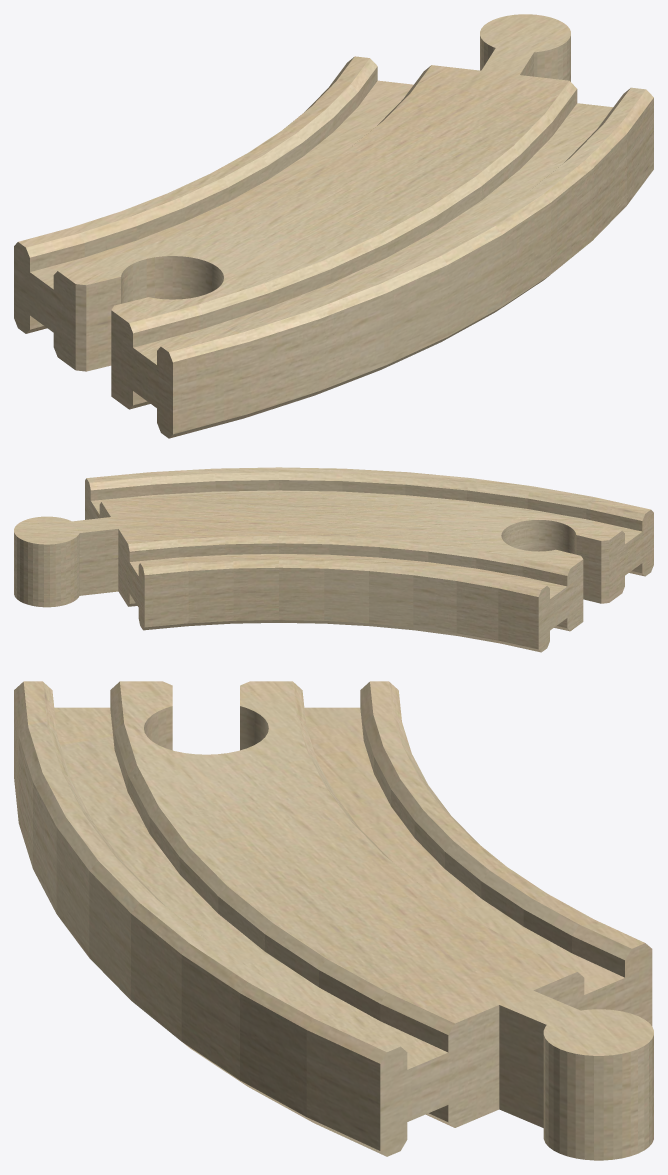
3 renders of one model, top to bottom at view 1: azimuth 30°, elevation 25°; view 2: azimuth 150°, elevation 25°; view 3: azimuth 270°, elevation 25°, orthographic. The views are drawn at different scales.
Parts seen in each view (by area): view 1: SketchUp; view 2: SketchUp; view 3: SketchUp.
Part boxes in pixels (box(x1,y1,x2,y2)): SketchUp: box(14, 14, 653, 438); SketchUp: box(14, 467, 653, 652); SketchUp: box(14, 681, 653, 1160).
Size of the model in its own units: 3.63 by 2.62 by 0.4724.
